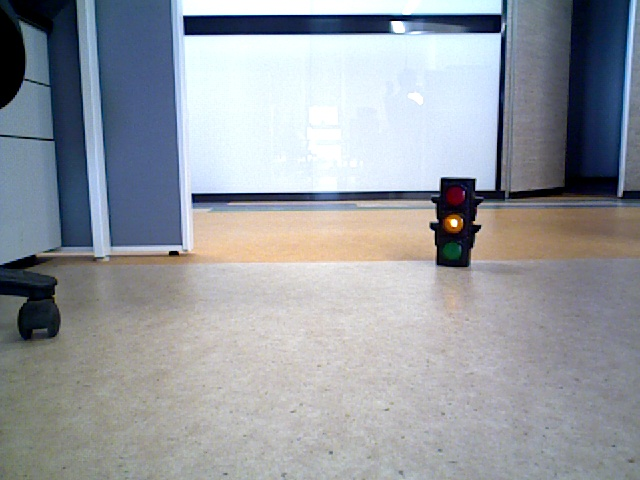yellow: (439, 181, 469, 264)
